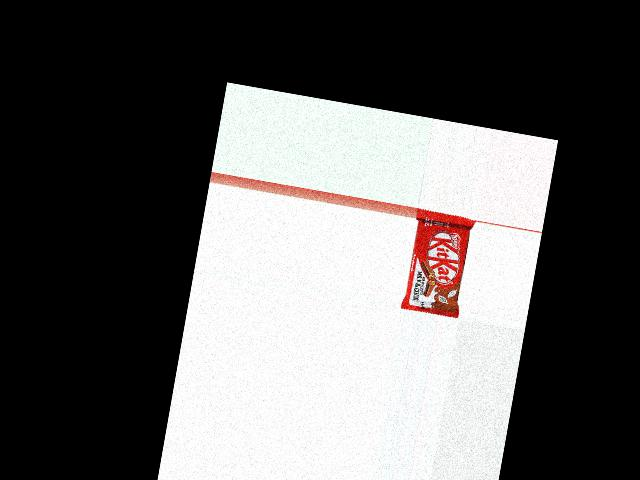chocolate: (399, 208, 475, 319)
